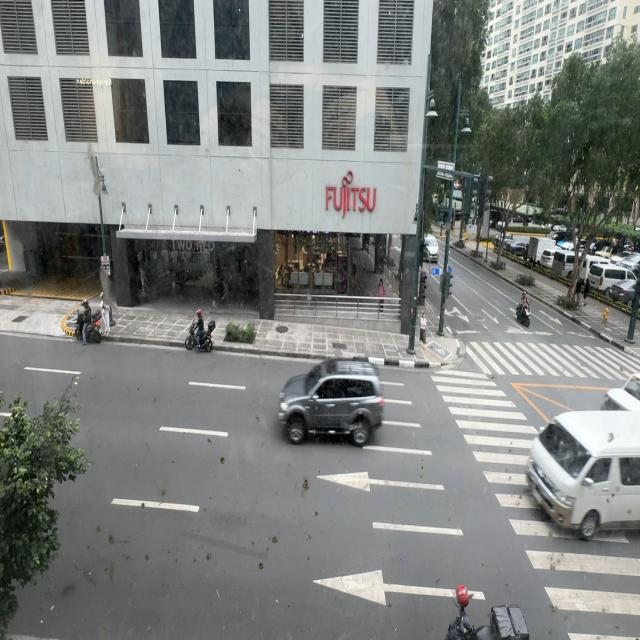pedestrain: (377, 279, 385, 313), (582, 278, 590, 305)
waiting: (420, 311, 427, 349)
